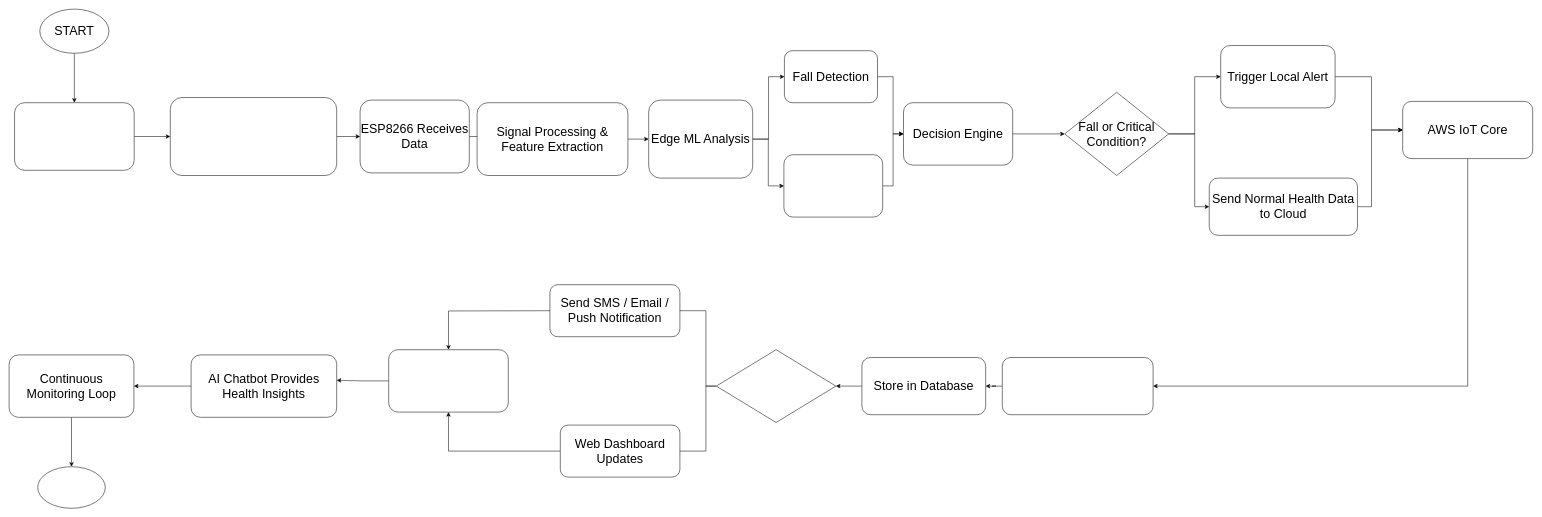
Image size: 1542x517. Some labels were removed from this diagram. Each missing label, with the centre of its shape:
"Caregiver Views Live Data" goes at point (448, 380).
"Cloud Processing (Lambda)" goes at point (1077, 386).
"Critical Condition?" goes at point (776, 385).
"END" goes at point (71, 487).
"Health Risk Classification" goes at point (833, 185).
"Sensors Collect Data (Motion, Heart Rate, SpO2, Temperature)" goes at point (253, 136).
"User Wears Device" goes at point (74, 136).
